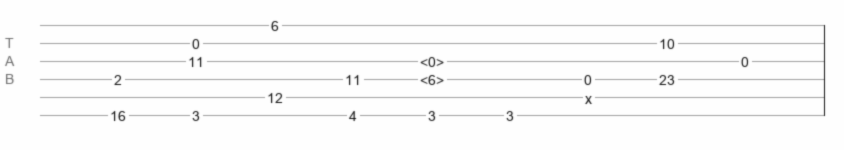0: (192, 36, 200, 46), (584, 72, 592, 82), (741, 54, 749, 64)
10: (659, 36, 675, 46)
11: (188, 54, 204, 64), (345, 72, 361, 82)
12: (267, 90, 283, 100)
16: (110, 108, 126, 118)
2: (114, 72, 122, 82)
23: (659, 72, 675, 82)
3: (192, 108, 200, 118), (428, 108, 436, 118), (506, 108, 514, 118)
4: (349, 108, 357, 118)
6: (271, 18, 279, 28)
harmonic: (420, 54, 444, 64), (420, 72, 444, 82)
x: (585, 91, 592, 99)
